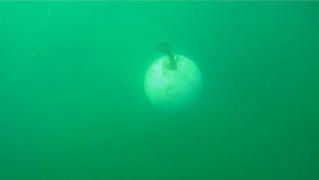buoy: (143, 54, 203, 114)
